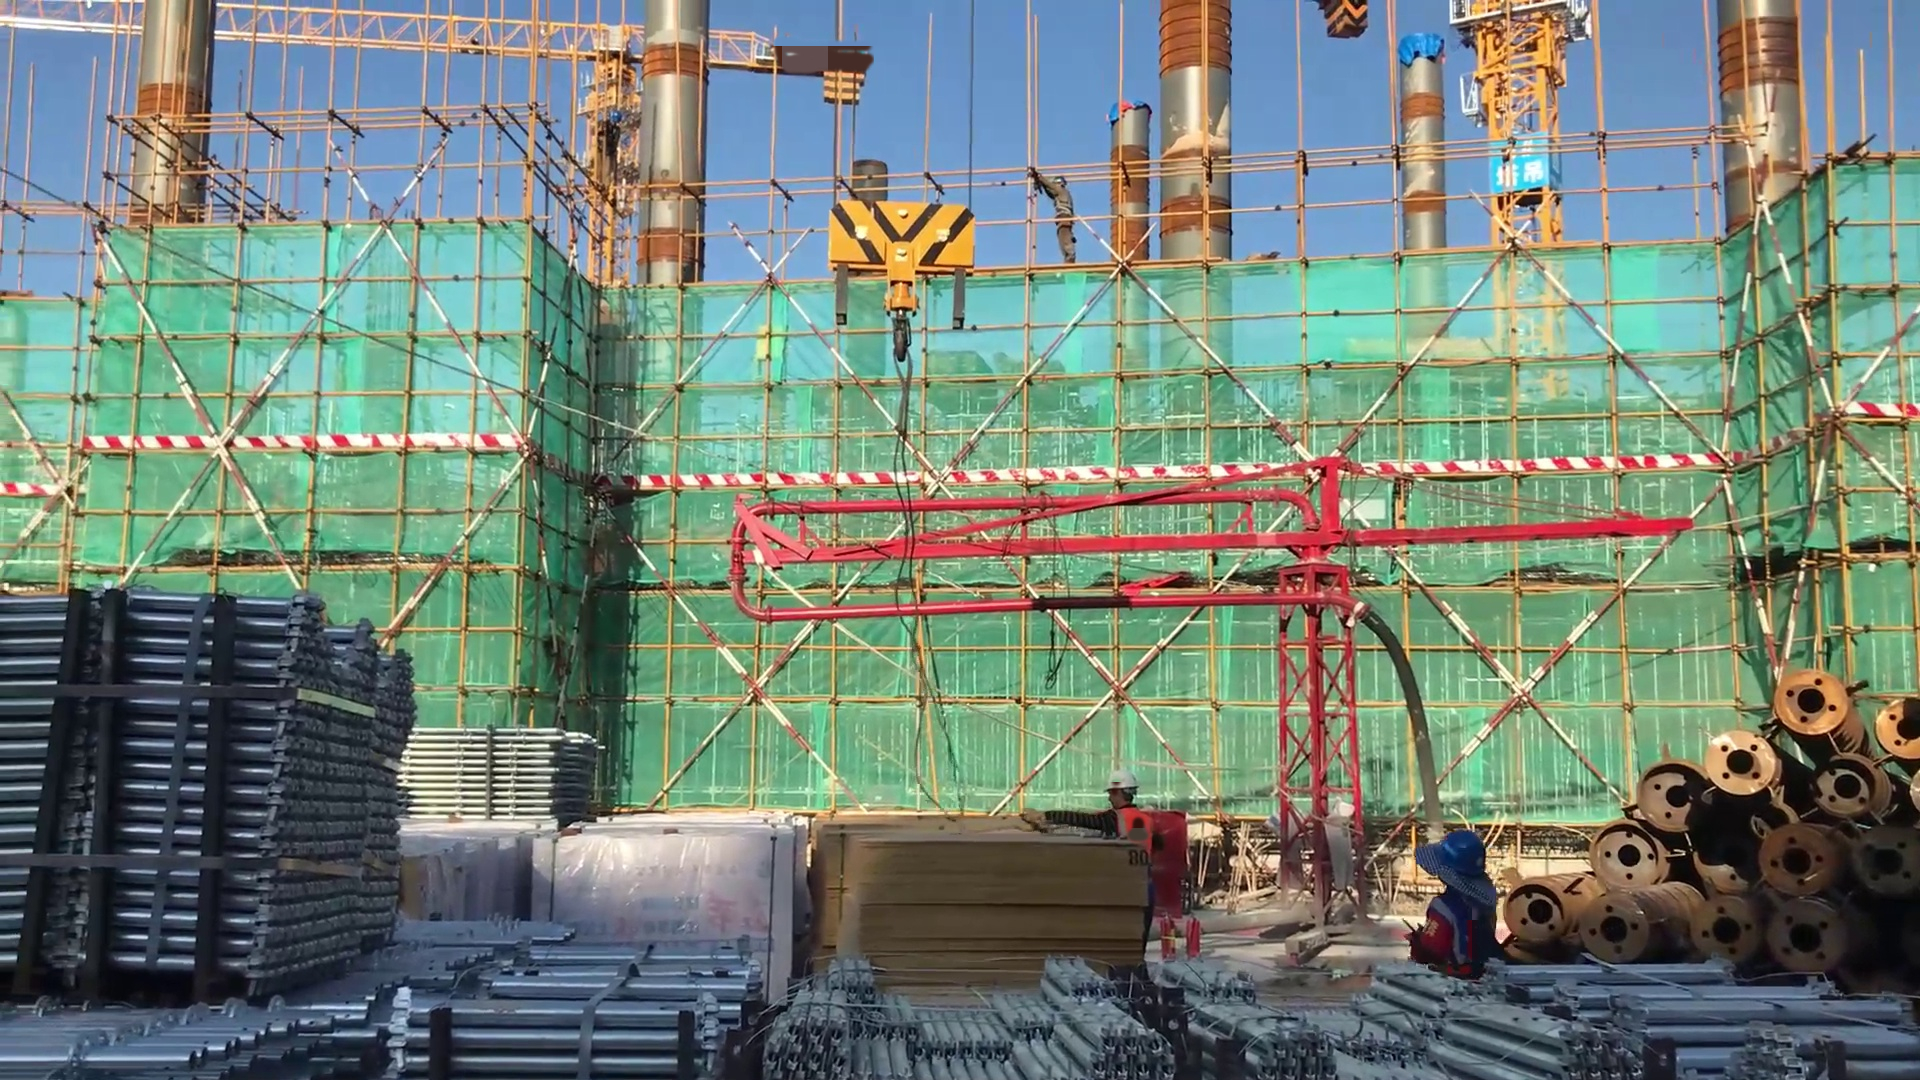board: (806, 815, 1151, 1004)
helmet: (1432, 829, 1491, 878), (1100, 765, 1141, 798), (1052, 174, 1074, 188)
hook: (815, 174, 1001, 369)
person: (1019, 768, 1157, 985), (1399, 819, 1509, 992), (1025, 166, 1090, 277)
scaffold: (1, 585, 437, 996), (1, 914, 544, 1080), (1366, 951, 1920, 1078), (394, 946, 781, 1073), (779, 953, 1158, 1077), (1172, 960, 1458, 1080), (391, 717, 604, 826)
slogan: (1488, 126, 1558, 203)
vest: (1428, 887, 1502, 981), (1108, 806, 1155, 884), (1051, 194, 1075, 222)
